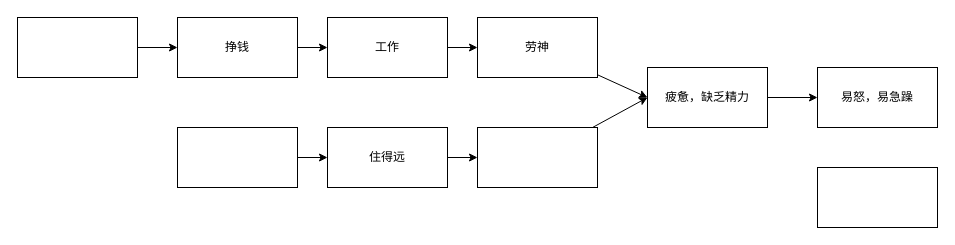
Image size: 955x245. Some labels were removed from this diagram. Each missing label, with the centre of its shape:
"买房" goes at (77,47).
"便宜房子" goes at (237,157).
"通勤时间长" goes at (537,157).
